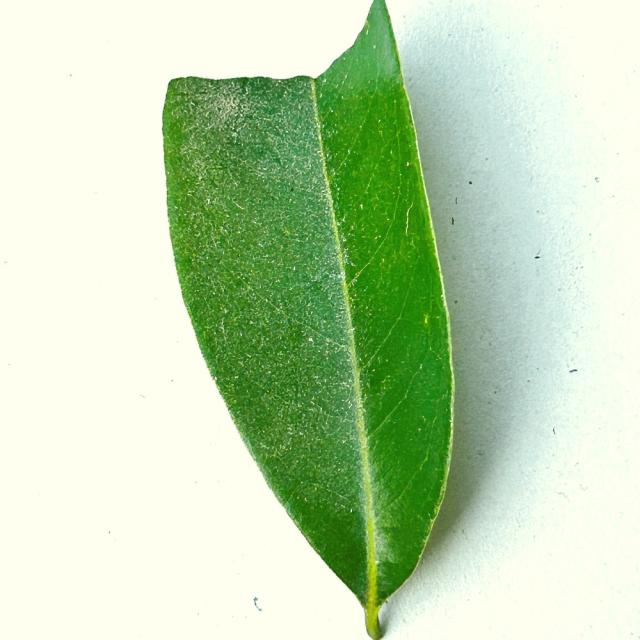Deficiency Leaf: (153, 0, 372, 79)
Lychee: (163, 0, 454, 639)
